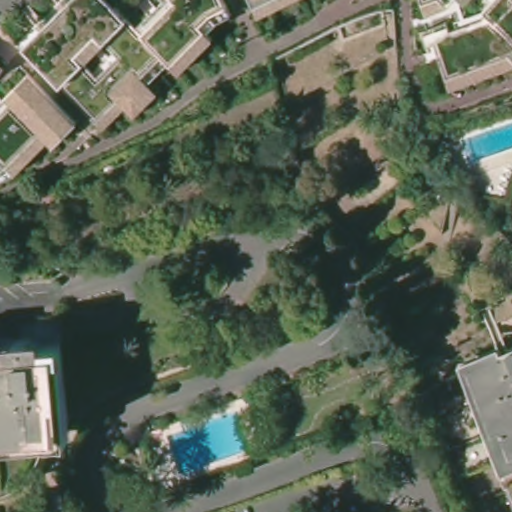pool: (166, 412, 261, 477), (459, 121, 512, 159)
